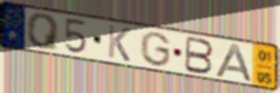5: (64, 17, 89, 55)
A: (213, 42, 256, 84)
B: (183, 35, 216, 76)
G: (139, 30, 172, 68)
K: (106, 23, 132, 64)
Q: (25, 12, 62, 53)
